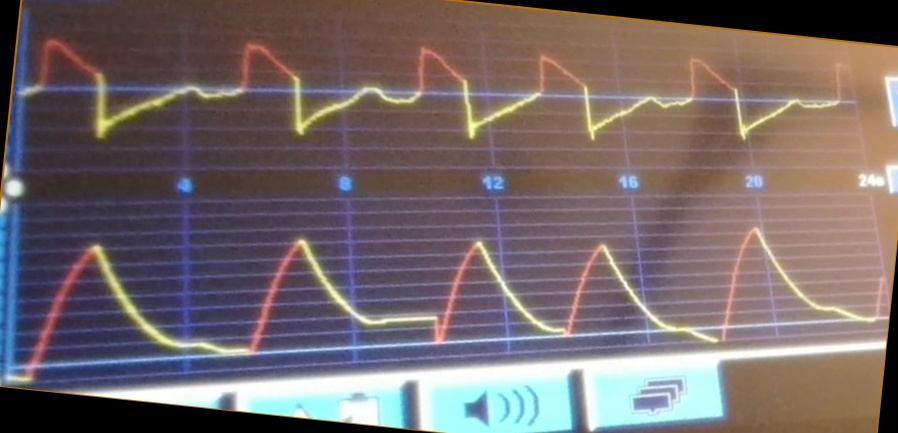Ineffective_effort Flow: (26, 35, 848, 159)
Ineffective_effort Volume: (16, 221, 885, 359)
